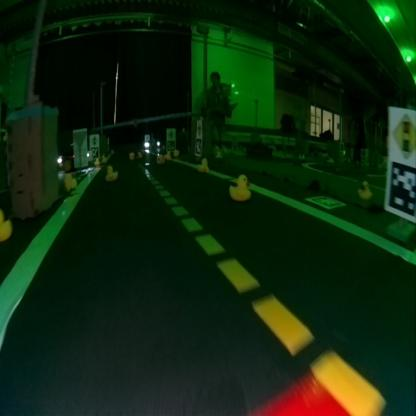Duckie: (229, 174, 249, 200), (358, 180, 371, 198), (64, 173, 76, 191), (105, 165, 117, 180), (198, 158, 208, 172), (128, 152, 135, 160), (158, 154, 163, 162)
Intersection sign: (166, 129, 174, 138)
QR code: (388, 161, 415, 216), (307, 196, 344, 208), (194, 138, 200, 154), (166, 140, 174, 150)
Signal sign: (392, 114, 416, 156)
